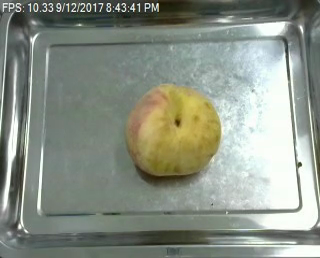Peach: (125, 84, 222, 176)
